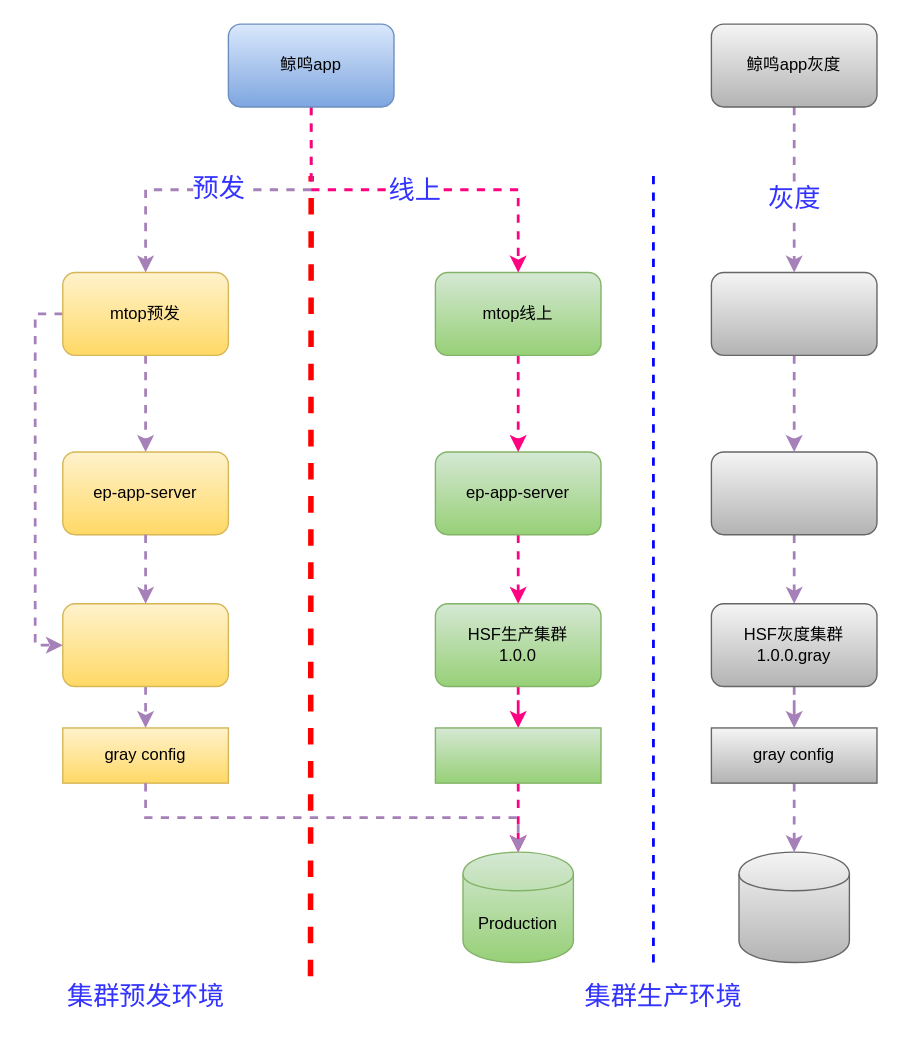
Image size: 901x1042. Some labels were removed from this diagram. Each missing label, with the box of its shape:
ep-app-server-gray: (710, 451, 877, 535)
Gray: (738, 851, 849, 963)
HSF预发集群 1.0.0: (61, 602, 228, 687)
mtop灰度: (710, 271, 877, 355)
prod config: (434, 727, 601, 783)
